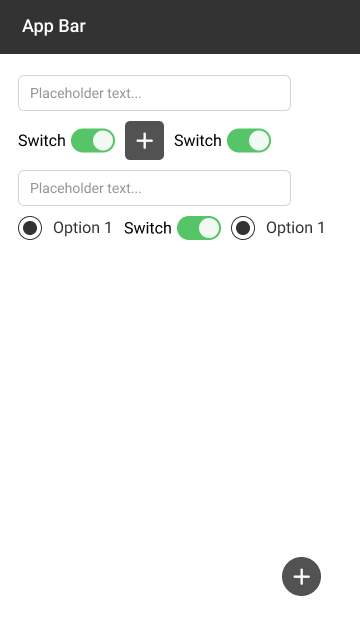buttonIcon: (122, 120, 166, 163)
editText: (16, 166, 293, 208), (16, 73, 293, 113)
radioButton: (228, 212, 327, 242), (16, 213, 114, 242)
switch: (12, 126, 116, 156), (119, 214, 223, 242), (171, 127, 272, 155)
toolbar: (1, 1, 360, 56)
